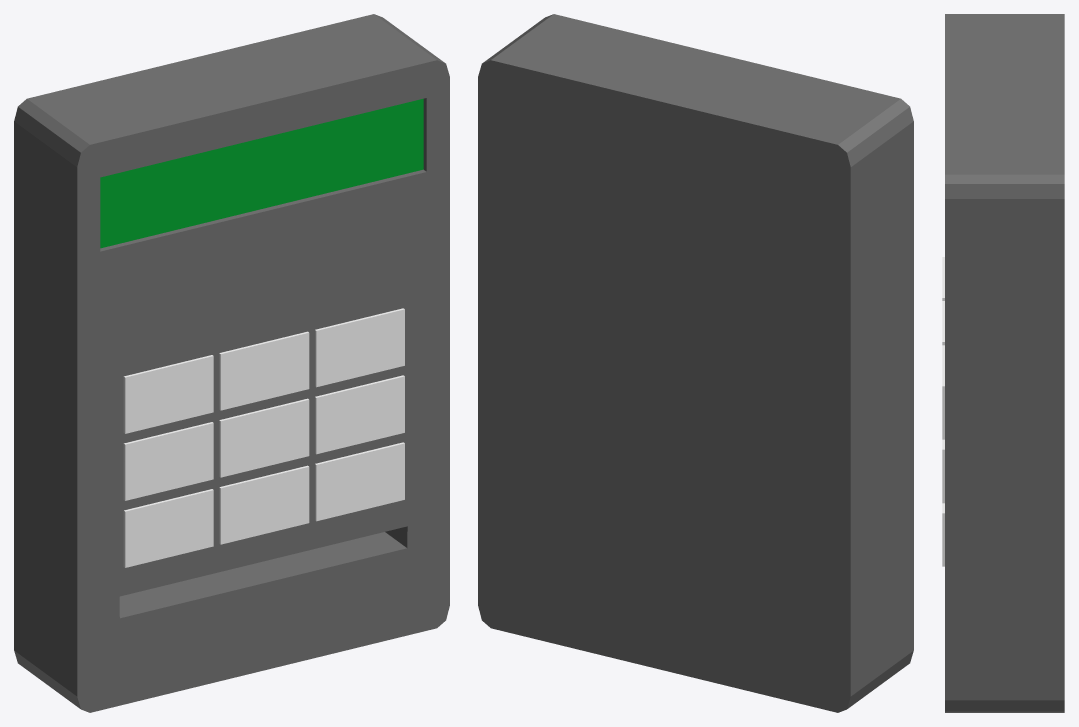
Rendered from Passworder.fbx.
3 views of the same model, side by side, from view 1: azimuth 30°, elevation 25°; view 2: azimuth 150°, elevation 25°; view 3: azimuth 270°, elevation 25° (orthographic). The views are drawn at different scales.
Visible parts, largest first — view 1: Passworder; view 2: Passworder; view 3: Passworder.
Boxes of the visible parts, <box> form: Passworder: <box>14,14,449,712</box>; Passworder: <box>478,14,913,712</box>; Passworder: <box>942,14,1064,712</box>.
Bounding box in the file's own units: 31.22 × 45.48 × 9.38.
